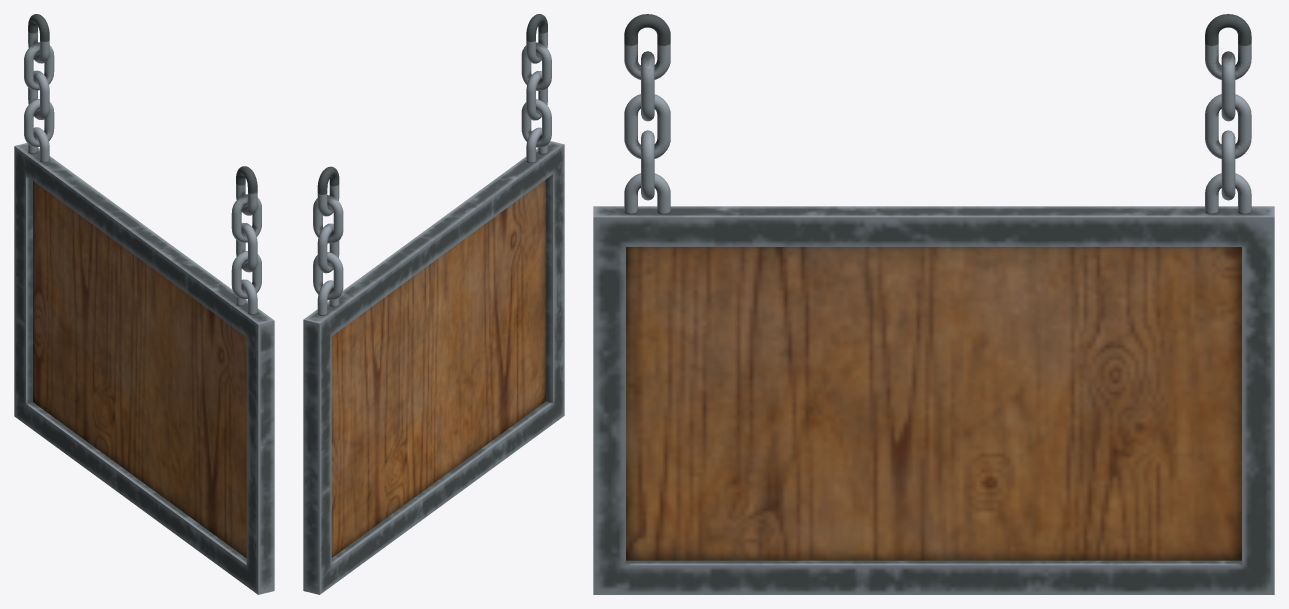
The model's file is sign.obj.
The picture shows the model from 3 angles, left to right: view 1: azimuth 30°, elevation 25°; view 2: azimuth 150°, elevation 25°; view 3: azimuth 270°, elevation 25°; orthographic projection. The views are drawn at different scales.
Visible parts, largest first — view 1: SM_Signboard_low.002, SM_Chain1_low.003, SM_Chain2_low.003; view 2: SM_Signboard_low.002, SM_Chain1_low.003, SM_Chain2_low.003; view 3: SM_Signboard_low.002, SM_Chain1_low.003, SM_Chain2_low.003.
Boxes of the visible parts, x1,y1,x2,y2 form: SM_Signboard_low.002: (14, 143, 274, 594); SM_Chain1_low.003: (28, 14, 257, 314); SM_Chain2_low.003: (24, 42, 261, 299); SM_Signboard_low.002: (303, 141, 564, 594); SM_Chain1_low.003: (317, 14, 547, 315); SM_Chain2_low.003: (313, 42, 551, 300); SM_Signboard_low.002: (593, 206, 1274, 594); SM_Chain1_low.003: (624, 14, 1251, 214); SM_Chain2_low.003: (641, 51, 1235, 200).
Size of the model in its own units: 0.0353 by 0.4803 by 0.5162.
